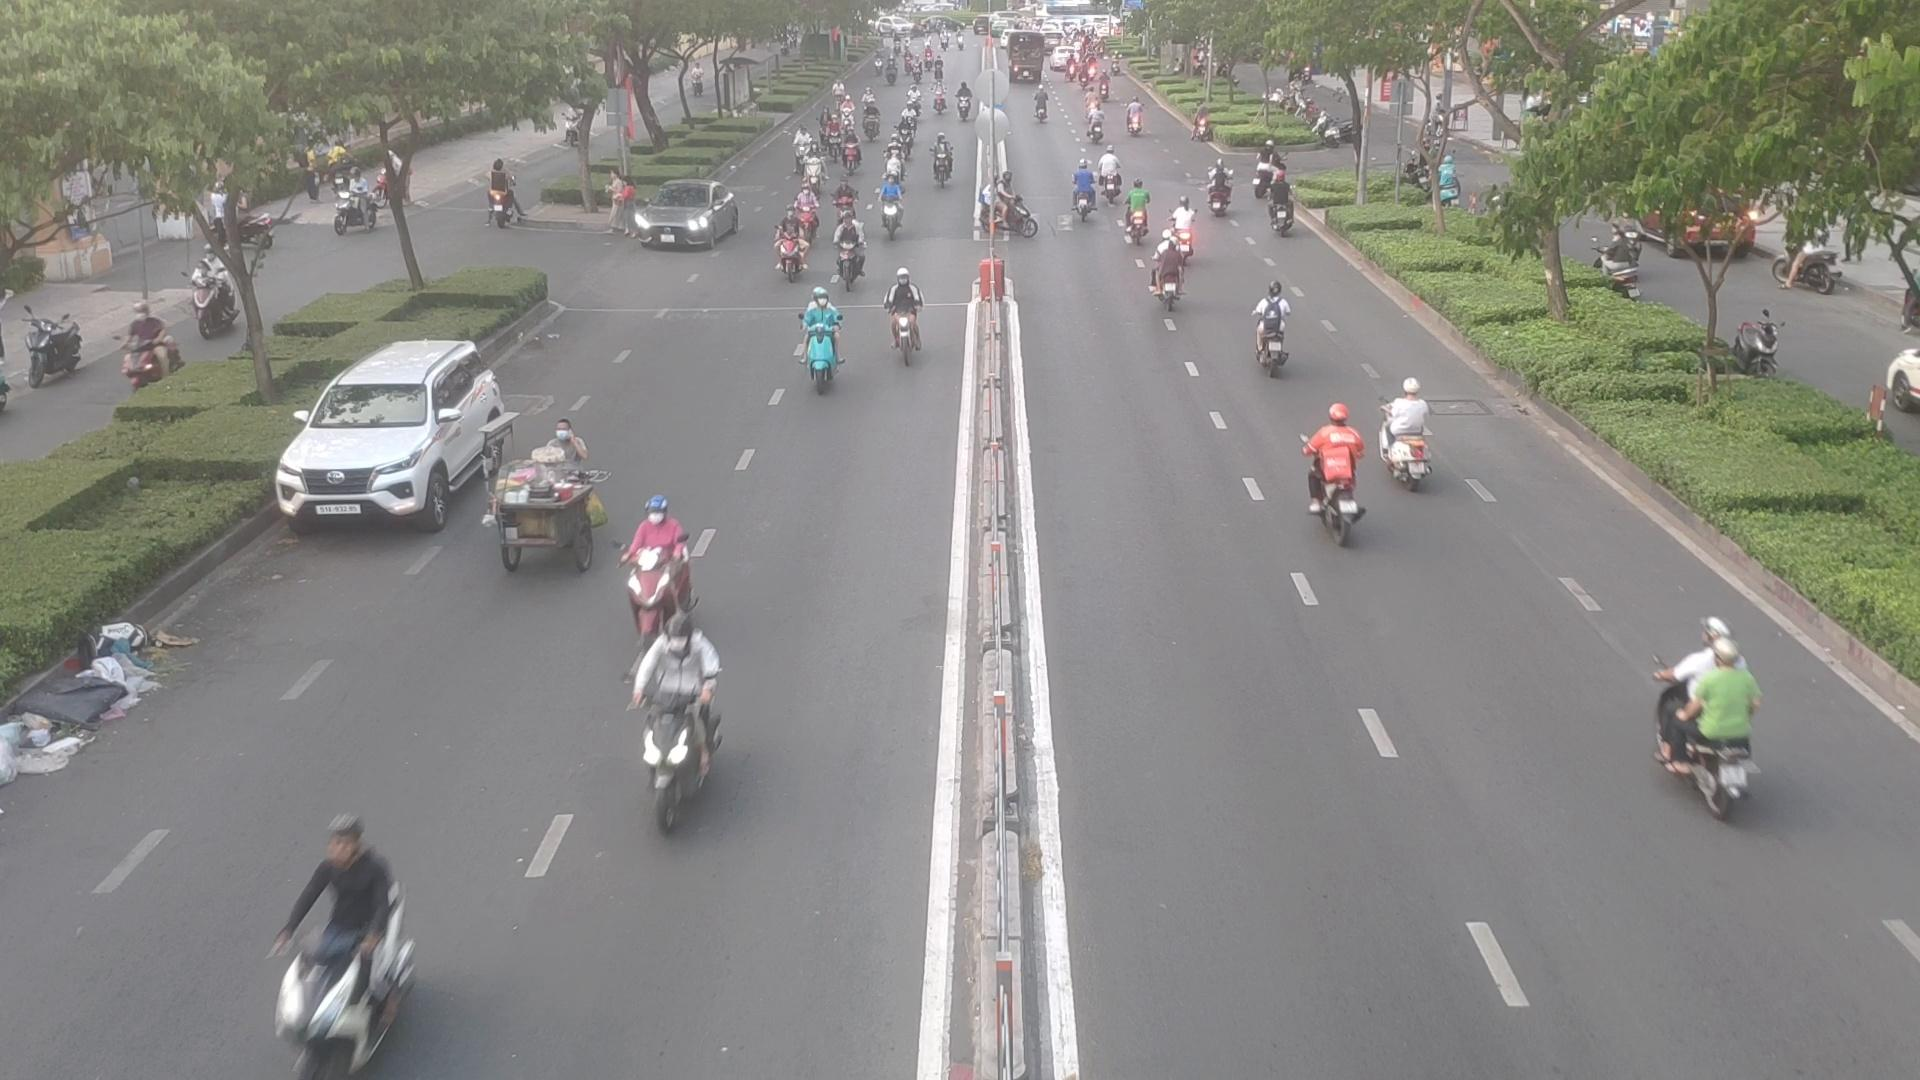car: (276, 348, 524, 537), (617, 187, 753, 253)
motorbike: (262, 855, 419, 1077), (1647, 629, 1771, 825), (632, 618, 720, 831), (1298, 407, 1385, 537), (622, 501, 707, 617), (1371, 382, 1443, 491), (793, 293, 852, 396), (878, 277, 928, 371), (1245, 299, 1299, 378), (767, 215, 808, 280), (1150, 251, 1189, 313), (829, 224, 869, 286), (869, 186, 909, 243), (1121, 193, 1159, 251), (1162, 211, 1203, 265), (1065, 167, 1104, 224), (783, 193, 825, 243), (930, 146, 957, 189), (840, 135, 865, 171)
